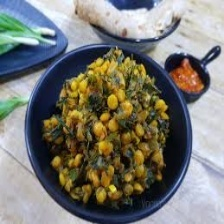roti: (69, 0, 194, 42)
